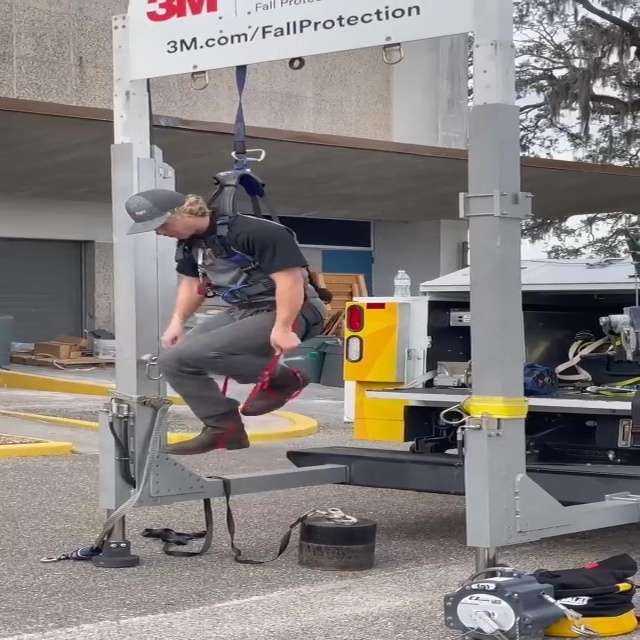Arnes_seguridad: (165, 163, 342, 342)
